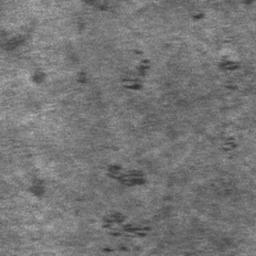Rolled in scale: (102, 146, 226, 256), (200, 36, 256, 160), (122, 43, 175, 96), (1, 28, 51, 82), (10, 139, 47, 209), (77, 72, 101, 105), (192, 3, 219, 20), (142, 117, 172, 130), (89, 0, 114, 13), (210, 182, 233, 192)
